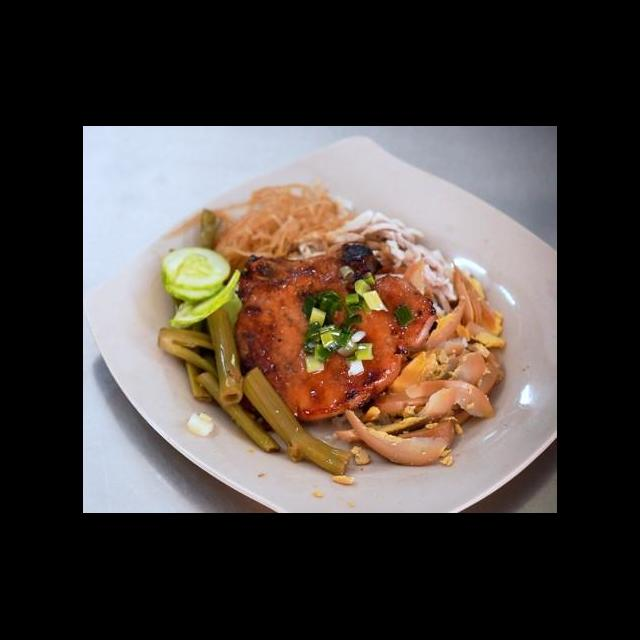bi: (207, 176, 355, 280)
dua chua: (193, 366, 357, 482), (153, 304, 248, 410)
suon: (229, 238, 440, 428), (325, 208, 460, 322)
trung: (333, 337, 506, 472), (401, 256, 509, 360)
